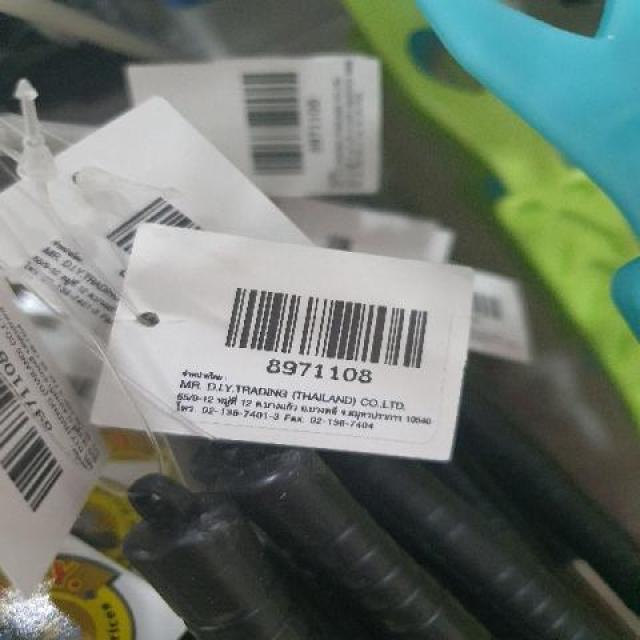Barcode: (205, 277, 452, 386)
